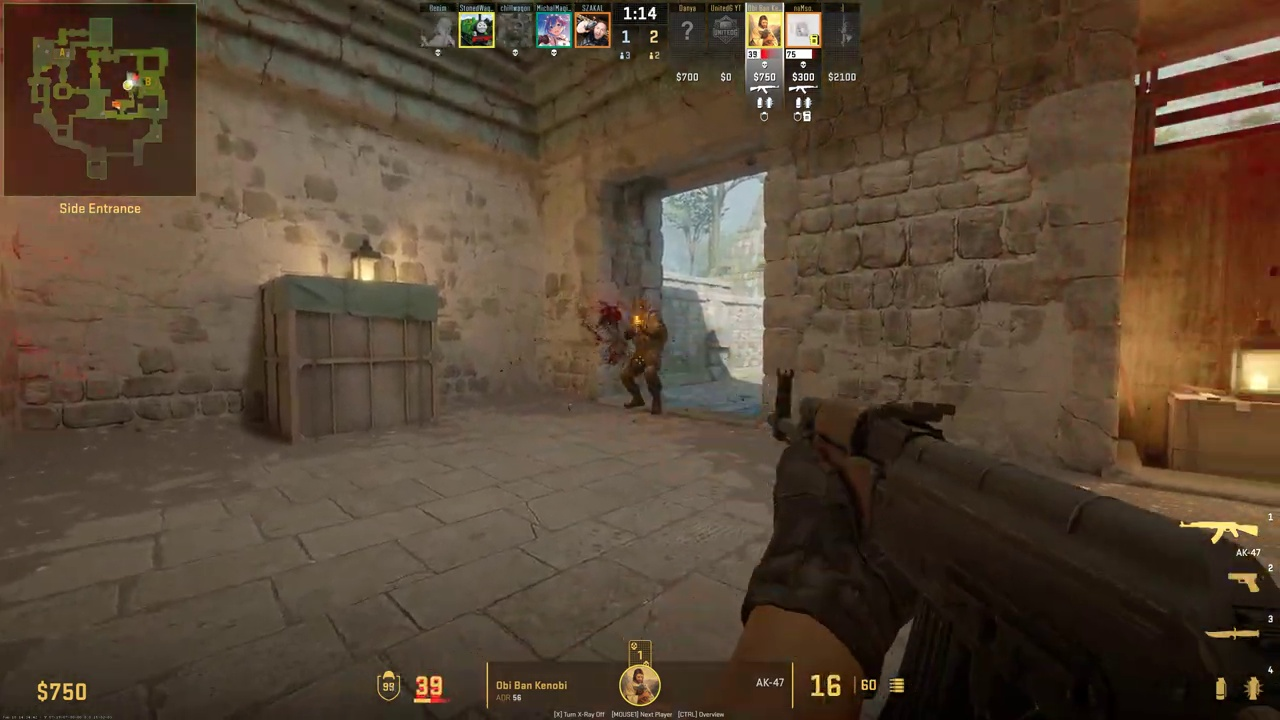CT: (621, 297, 668, 415)
